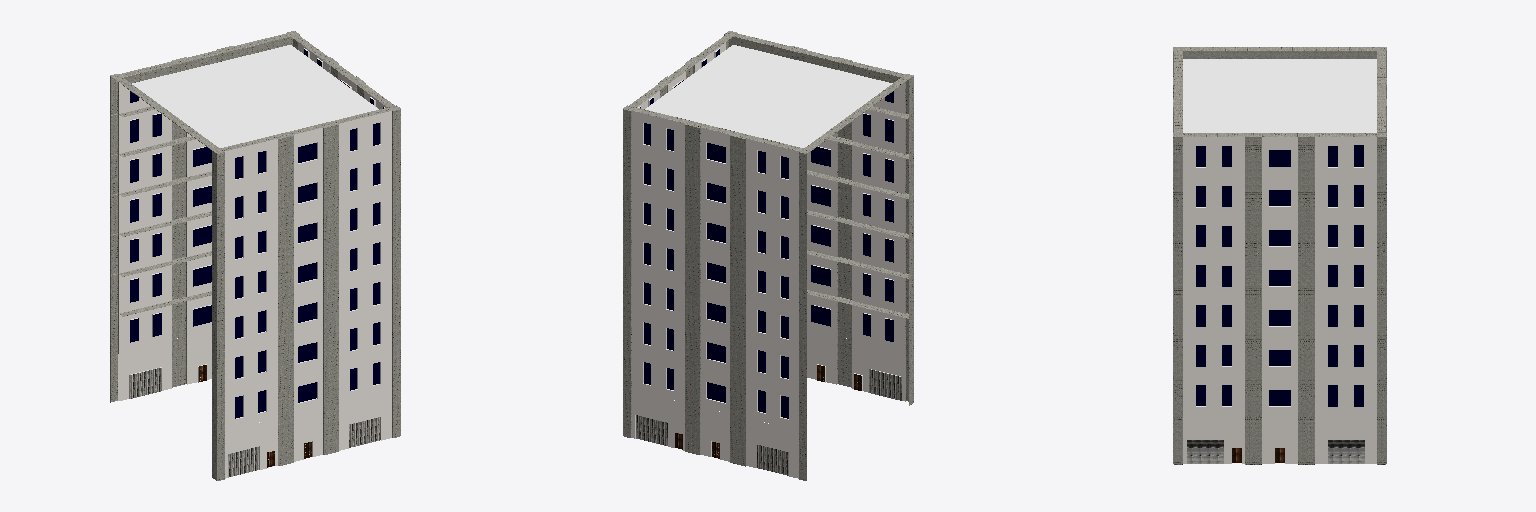
3 views of the same model, side by side, from view 1: azimuth 30°, elevation 25°; view 2: azimuth 150°, elevation 25°; view 3: azimuth 270°, elevation 25° (orthographic).
Visible parts, largest first — view 1: NormalBuilding1; view 2: NormalBuilding1; view 3: NormalBuilding1.
Part boxes in pixels (x1,y1,x2,y2): NormalBuilding1: (110,31,400,480); NormalBuilding1: (623,31,913,480); NormalBuilding1: (1173,47,1386,464).
Size of the model in its own units: 24.19 by 41 by 24.39.
Materials: 7 (3 with a texture image).